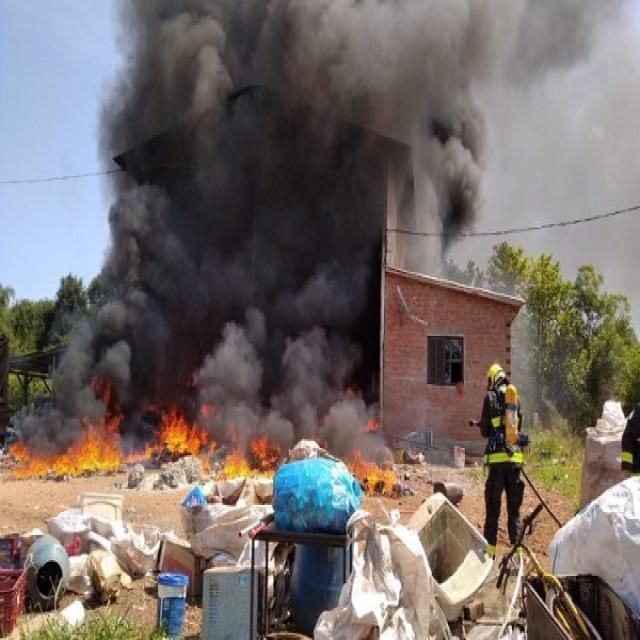Fire: (8, 411, 152, 472), (218, 432, 280, 482), (348, 441, 400, 498), (158, 400, 203, 453)
Smoke: (167, 15, 236, 196), (192, 322, 289, 434), (167, 233, 258, 314), (428, 140, 486, 253), (282, 326, 331, 444), (288, 252, 370, 322), (50, 316, 106, 411), (106, 193, 148, 304), (324, 397, 392, 462)
